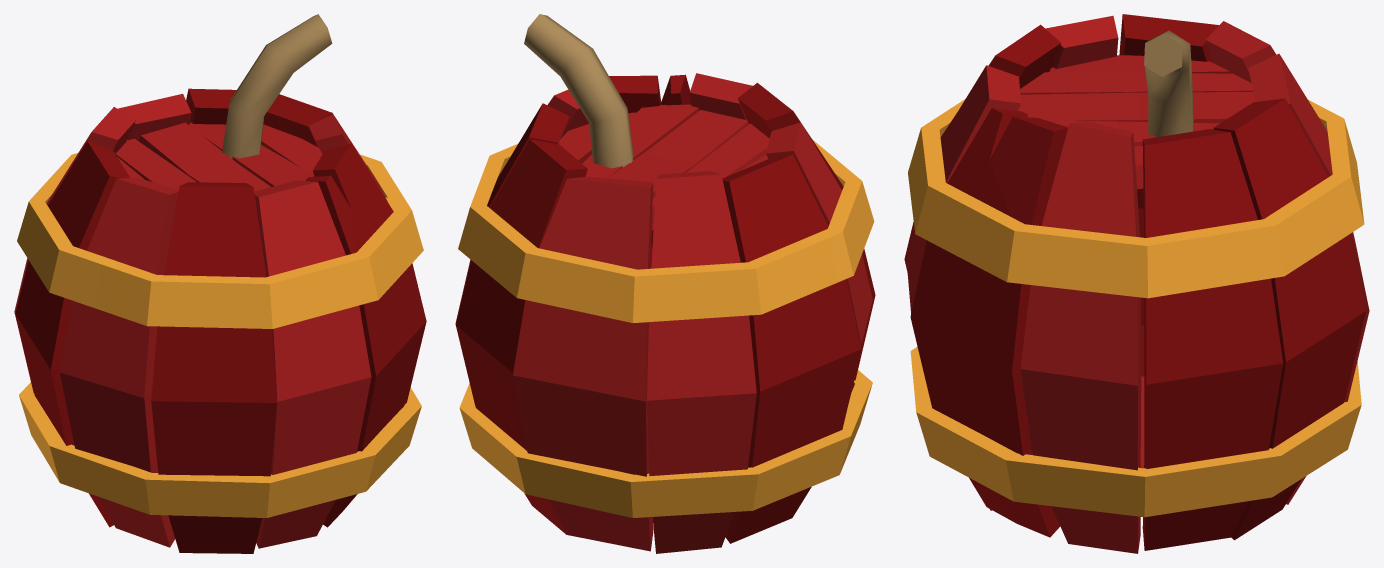
File: Wooden_Barrel_bomb.FBX
3 renders of one model, left to right at view 1: azimuth 30°, elevation 25°; view 2: azimuth 150°, elevation 25°; view 3: azimuth 270°, elevation 25°, orthographic. The views are drawn at different scales.
Parts seen in each view (by area): view 1: Wooden_Barrel_bomb; view 2: Wooden_Barrel_bomb; view 3: Wooden_Barrel_bomb.
Boxes of the visible parts, left/top/right/bottom form: Wooden_Barrel_bomb: left=14, top=14, right=426, bottom=553; Wooden_Barrel_bomb: left=455, top=14, right=875, bottom=553; Wooden_Barrel_bomb: left=904, top=14, right=1369, bottom=553.
Bounding box in the file's own units: 22.96 × 27.67 × 22.18.
